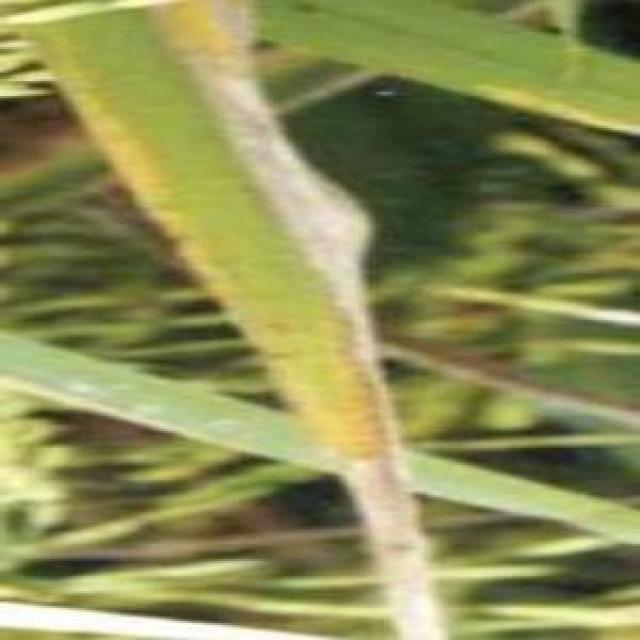Bacterial_Blight: (144, 0, 436, 640)
